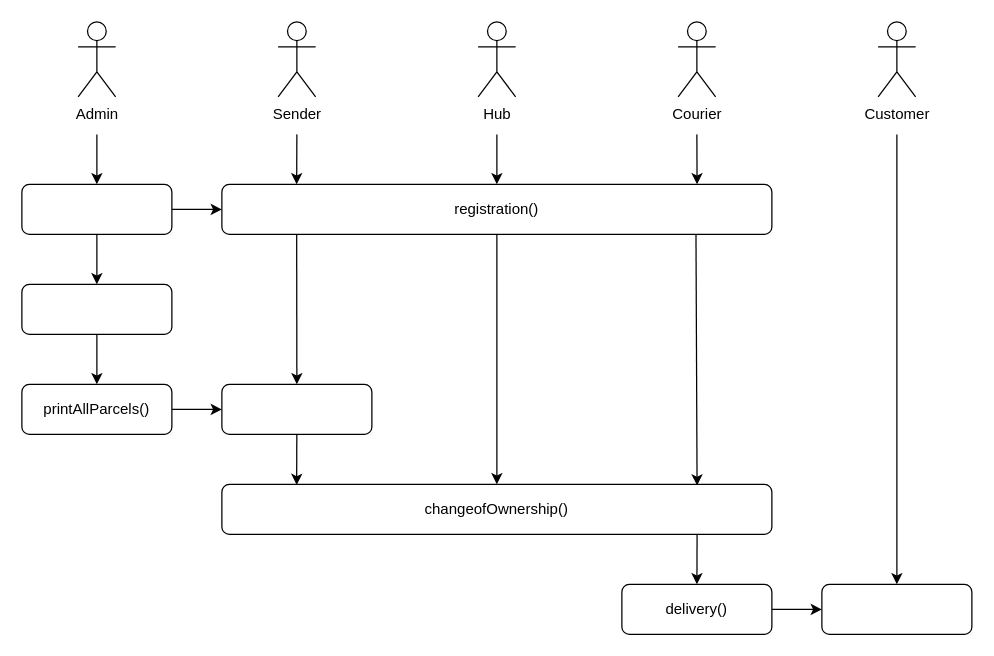
Some shapes in this 994 by 656 pixel diagram are drawn without their labels. The shapes that lost their labels are listed below. From the top down, each one's box as (x1, y1, x2, y2) in pixels, then its label:
(21, 183, 172, 234): verifyRole()
(21, 283, 172, 334): printAllSenders()
(221, 383, 372, 434): addParcel()
(821, 583, 972, 634): viewParcelinfo()
